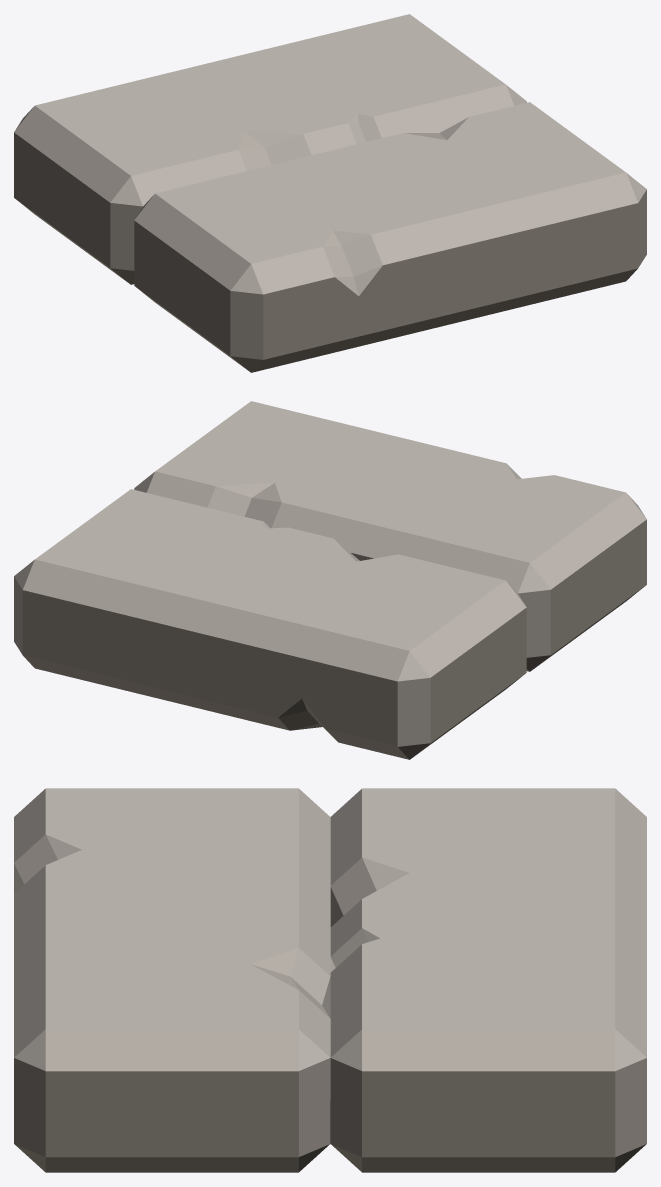
The model's file is m_kub_stone_flatTwoBrick.FBX.
3 views of the same model, one above another, from view 1: azimuth 30°, elevation 25°; view 2: azimuth 150°, elevation 25°; view 3: azimuth 270°, elevation 25° (orthographic). The views are drawn at different scales.
Parts seen in each view (by area): view 1: m_kub_stone_flatTwoBrick; view 2: m_kub_stone_flatTwoBrick; view 3: m_kub_stone_flatTwoBrick.
Boxes of the visible parts, x1,y1,x2,y2 form: m_kub_stone_flatTwoBrick: [14, 14, 646, 372]; m_kub_stone_flatTwoBrick: [14, 401, 646, 759]; m_kub_stone_flatTwoBrick: [14, 788, 646, 1172].
Size of the model in its own units: 2 by 0.5 by 2.
